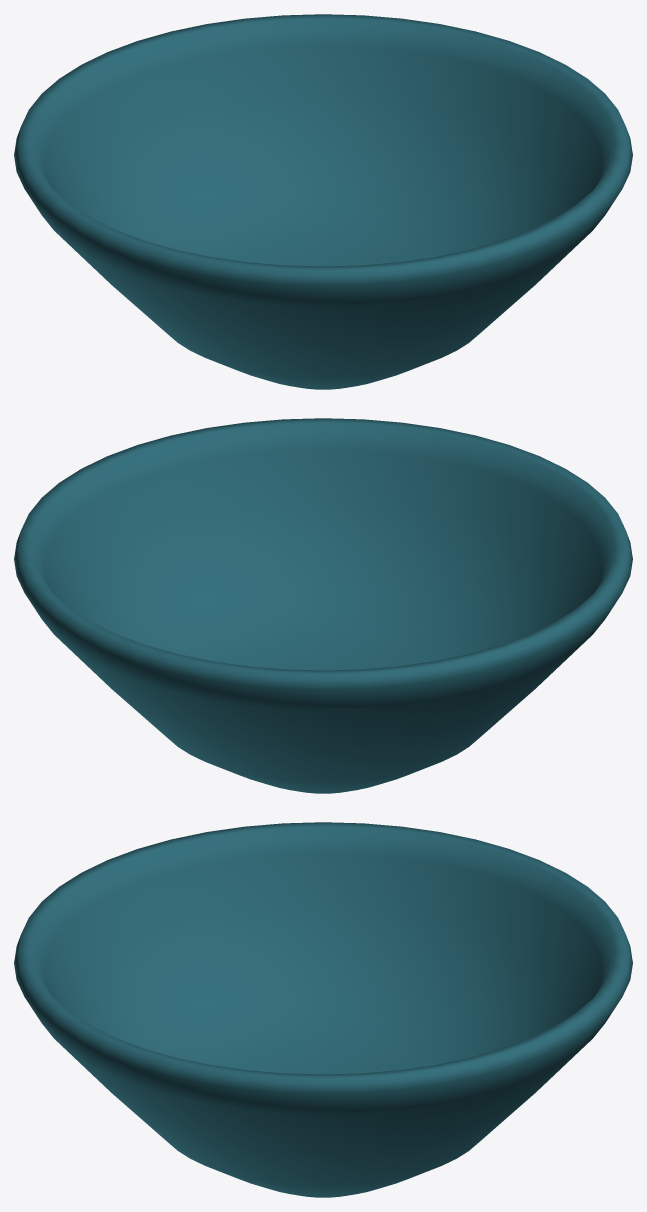
The model's file is SM_BFF_EmptyRiceBowl.fbx.
The picture shows the model from 3 angles, top to bottom: view 1: azimuth 30°, elevation 25°; view 2: azimuth 150°, elevation 25°; view 3: azimuth 270°, elevation 25°; orthographic projection.
Parts seen in each view (by area): view 1: SM_BFF_EmptyRiceBowl; view 2: SM_BFF_EmptyRiceBowl; view 3: SM_BFF_EmptyRiceBowl.
Part boxes in pixels (box(x1,y1,x2,y2)): SM_BFF_EmptyRiceBowl: box(14, 14, 632, 389); SM_BFF_EmptyRiceBowl: box(14, 418, 632, 793); SM_BFF_EmptyRiceBowl: box(14, 822, 632, 1197).
Bounding box in the file's own units: 14 × 14 × 5.5.
